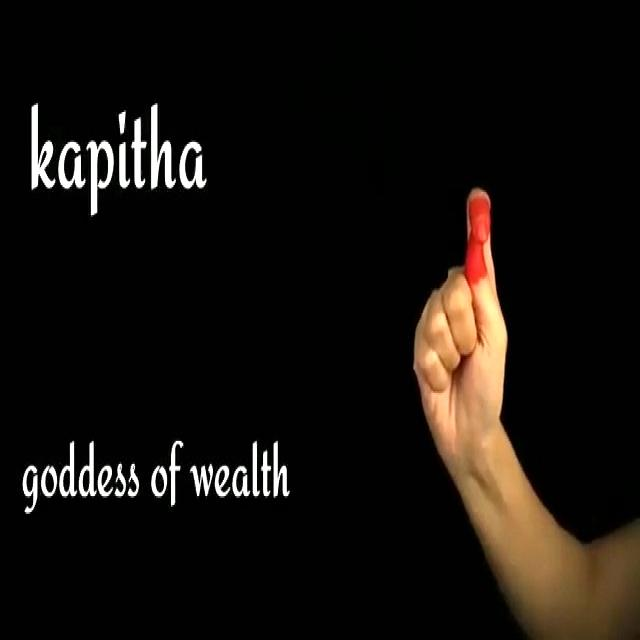Kapittha: (399, 163, 533, 470)
text: (27, 85, 213, 230), (16, 430, 295, 524)
